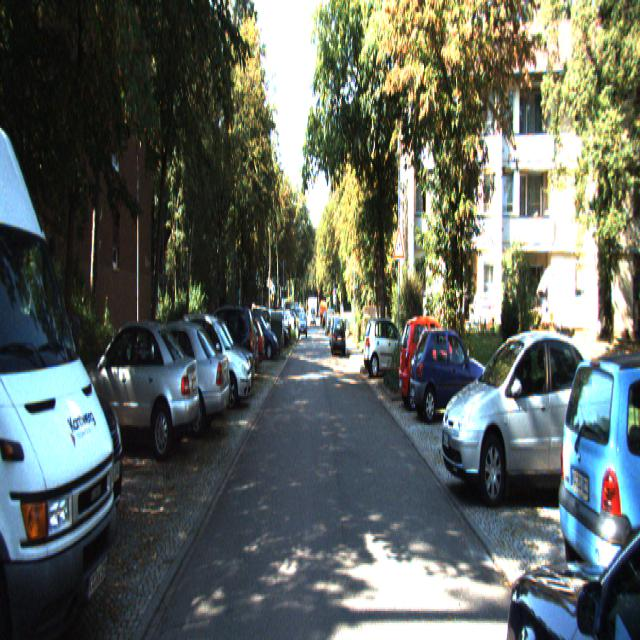Car: (439, 322, 625, 506), (556, 348, 640, 638), (64, 315, 203, 472), (119, 315, 230, 444), (410, 323, 492, 423), (173, 316, 251, 411), (397, 314, 469, 411), (363, 316, 415, 382), (235, 312, 279, 366), (331, 316, 346, 356)
